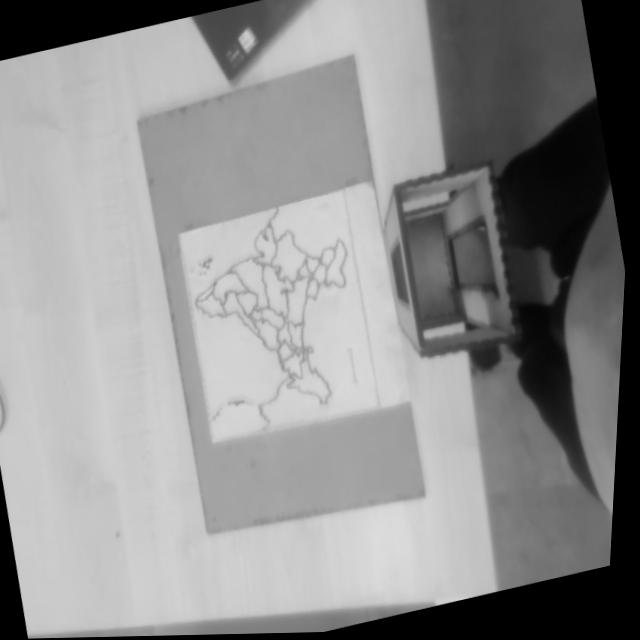map: (175, 189, 381, 441)
